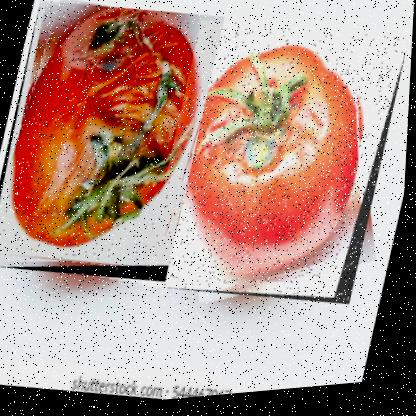tomato_rotten: (142, 8, 411, 326), (0, 0, 227, 298)
